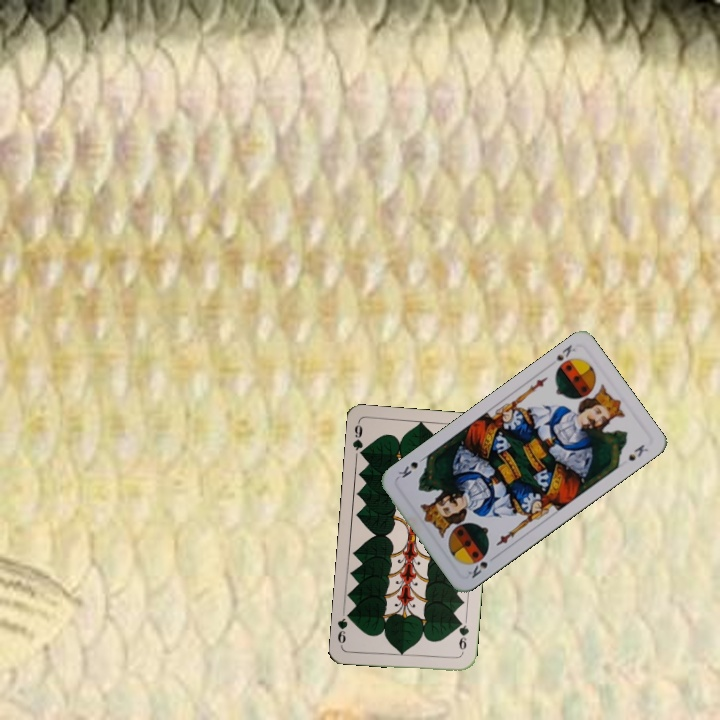G9: (348, 419, 367, 460), (455, 616, 471, 652)
SK: (463, 557, 490, 581), (552, 340, 578, 363)
